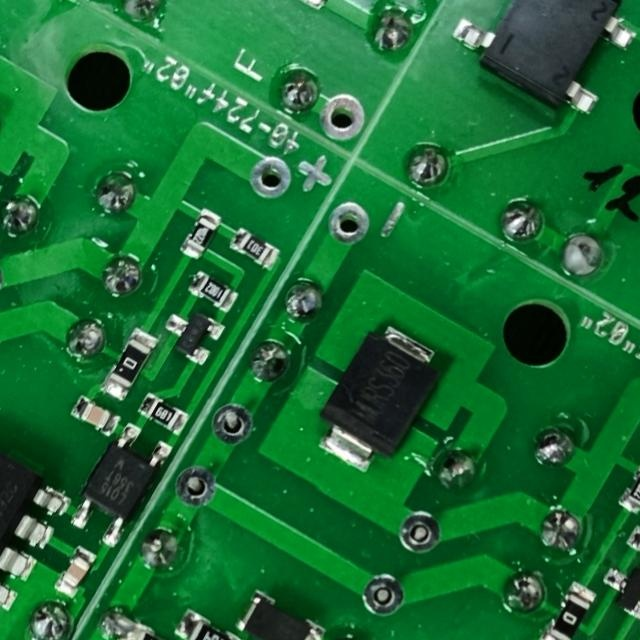chip-capacitor: (50, 542, 99, 602), (66, 392, 122, 440)
chip-resistor: (95, 322, 162, 406), (535, 578, 600, 640), (132, 387, 194, 439), (224, 223, 284, 273), (175, 204, 225, 264), (183, 266, 242, 316), (170, 606, 251, 640), (613, 458, 640, 519)
diode: (301, 314, 451, 486), (230, 585, 329, 640)
ic: (440, 0, 640, 129), (62, 416, 177, 554)
transistor: (152, 298, 228, 370), (590, 550, 640, 626)
